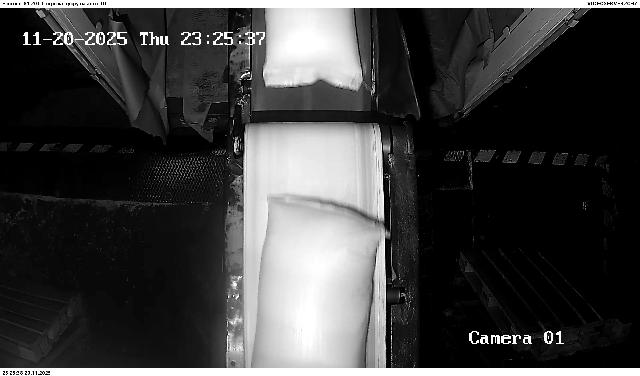bag: (251, 196, 387, 368), (263, 9, 368, 91)
